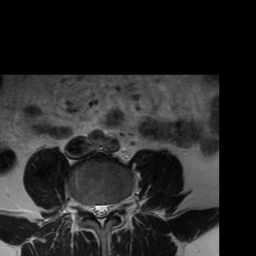CCS_normal: (97, 196, 104, 231)
LFS_normal: (111, 194, 119, 220)
LLS_normal: (104, 196, 111, 223)
RFS_normal: (82, 194, 90, 220)
RLS_normal: (90, 196, 97, 220)
